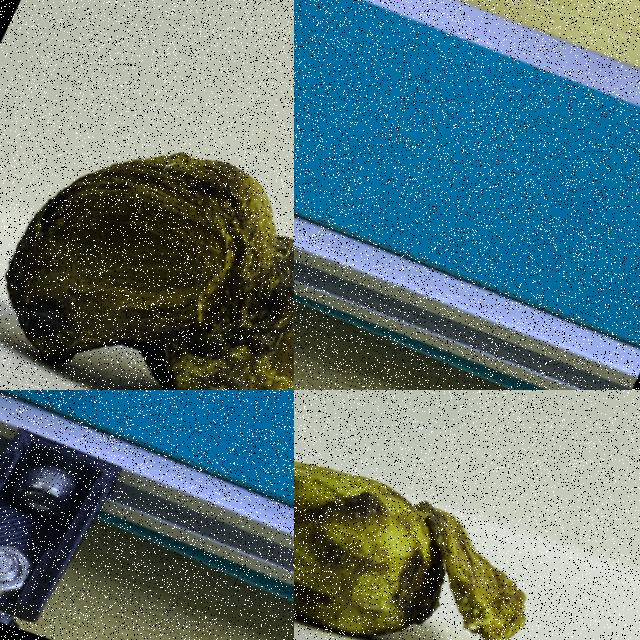Agglomerated_cocoabeans: (0, 0, 293, 389), (294, 390, 639, 639), (294, 0, 380, 194)
Fine_cocoabeans: (0, 390, 217, 466)
